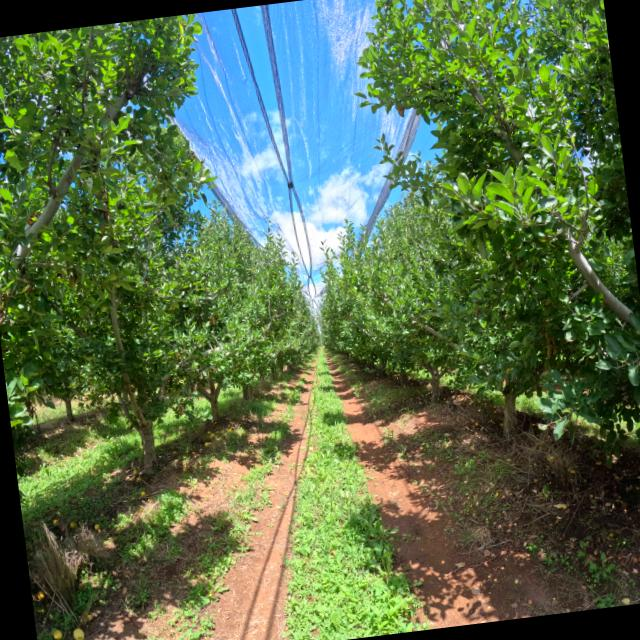-FireBlight-: (298, 45, 333, 82), (28, 212, 38, 224), (209, 315, 215, 324)
